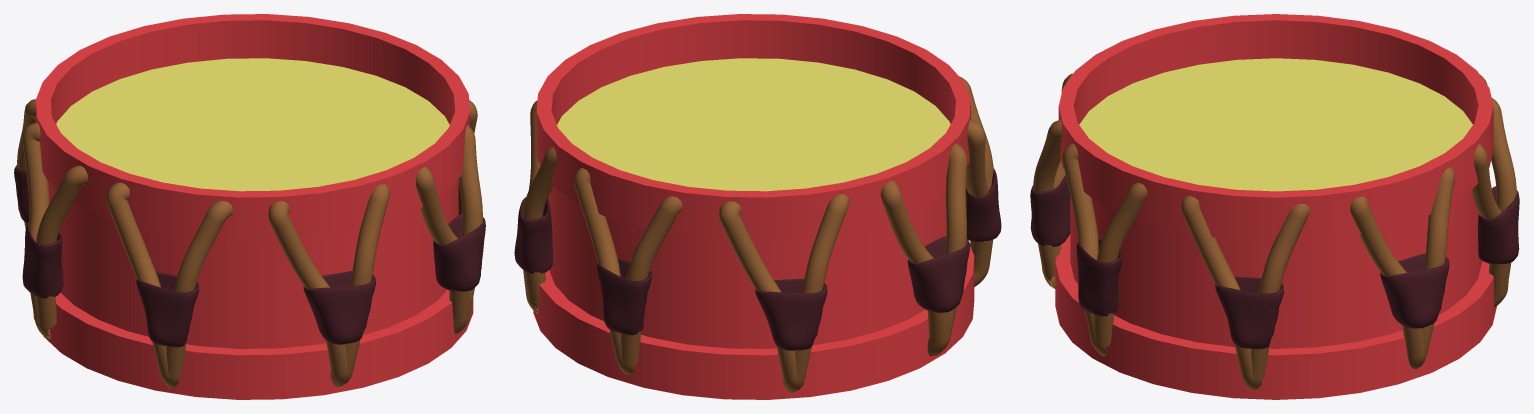
File: Little_Drum.fbx
The picture shows the model from 3 angles, left to right: view 1: azimuth 30°, elevation 25°; view 2: azimuth 150°, elevation 25°; view 3: azimuth 270°, elevation 25°; orthographic projection.
Parts seen in each view (by area): view 1: Drum; view 2: Drum; view 3: Drum.
Part boxes in pixels (x1,y1,x2,y2): Drum: (14, 14, 485, 399); Drum: (514, 14, 1001, 399); Drum: (1030, 14, 1519, 399).
Size of the model in its own units: 2377 by 1077 by 2377.
